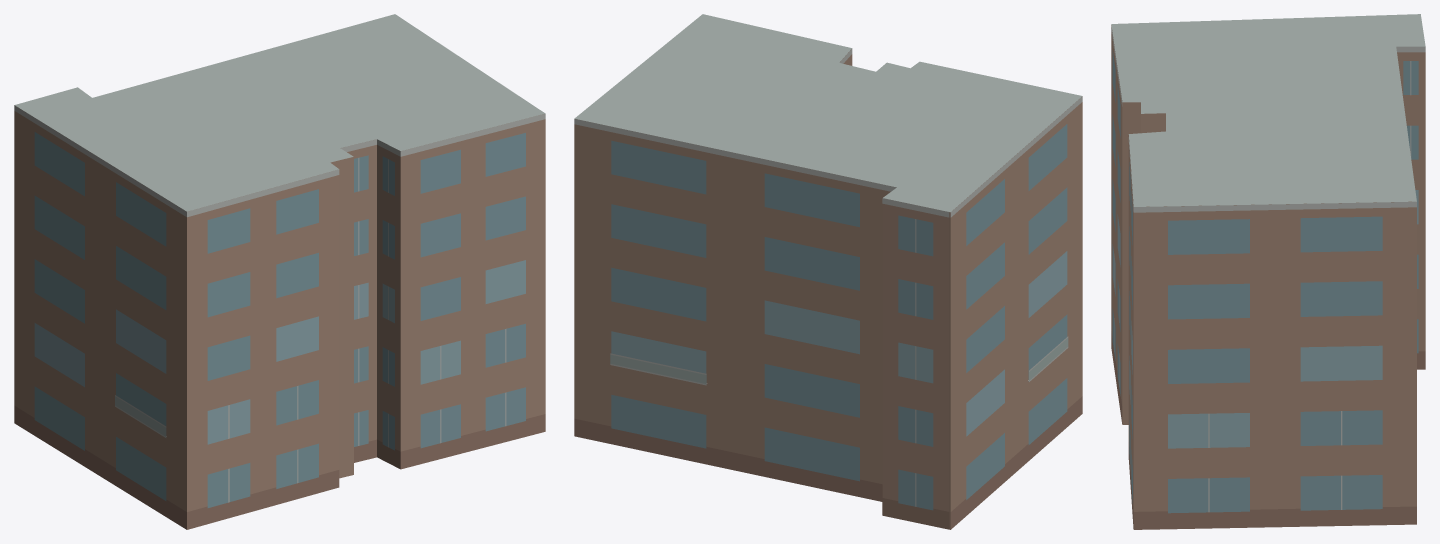
The model's file is survey-upis-33047286.glb.
The picture shows the model from 3 angles, left to right: view 1: azimuth 30°, elevation 25°; view 2: azimuth 150°, elevation 25°; view 3: azimuth 270°, elevation 25°; orthographic projection.
Parts seen in each view (by area): view 1: survey-upis-33047286.tmp; view 2: survey-upis-33047286.tmp; view 3: survey-upis-33047286.tmp.
Boxes of the visible parts, x1,y1,x2,y2 form: survey-upis-33047286.tmp: (14,14,545,529); survey-upis-33047286.tmp: (574,14,1082,529); survey-upis-33047286.tmp: (1111,14,1425,529).
Bounding box in the file's own units: 17.77 × 13.85 × 12.23.
